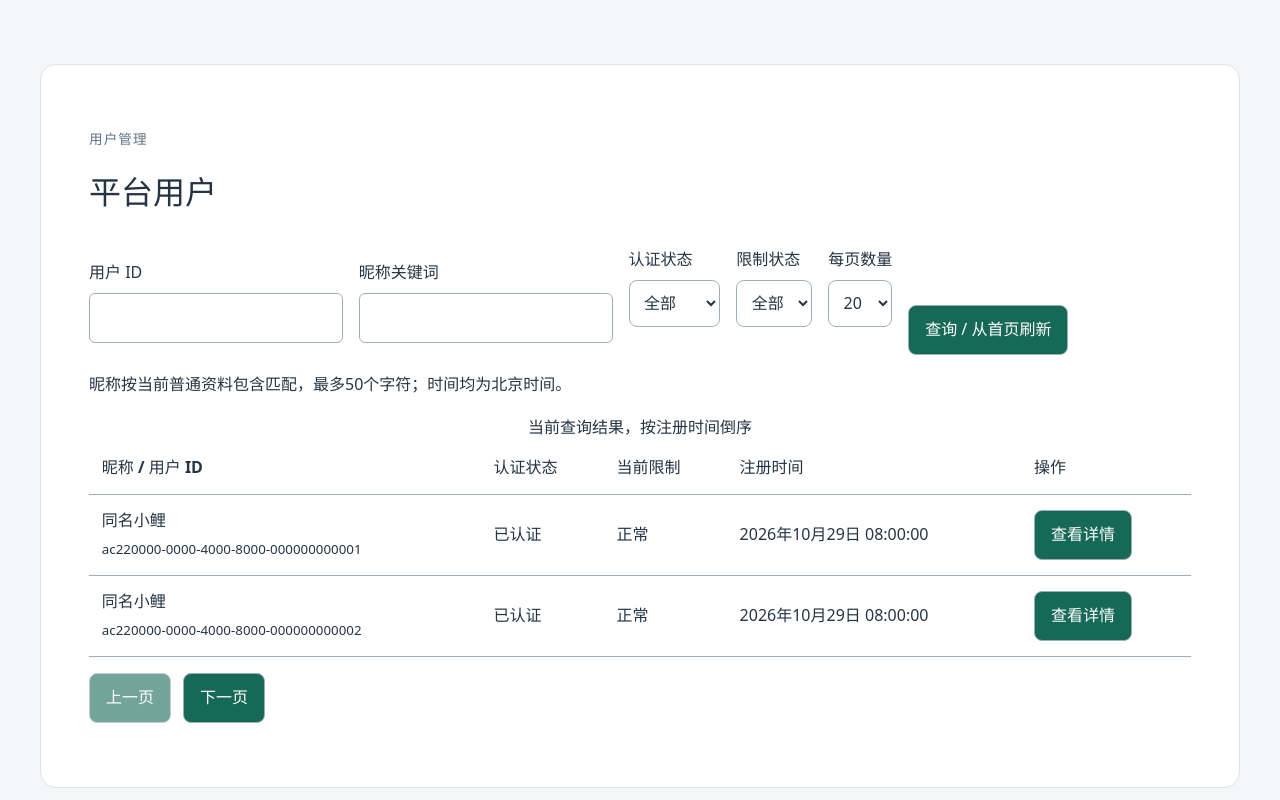
Test: UM-A02–A06 平台用户页面 › 历史独立失败不隐藏详情，空摘要不覆盖封禁状态
This screenshot has width=1280, height=800.
Step 1. Click the button "查看详情" in the row of "ac220000-0000-4000-8000-000000000001" → (1083,535), box [1034,510,1132,560]
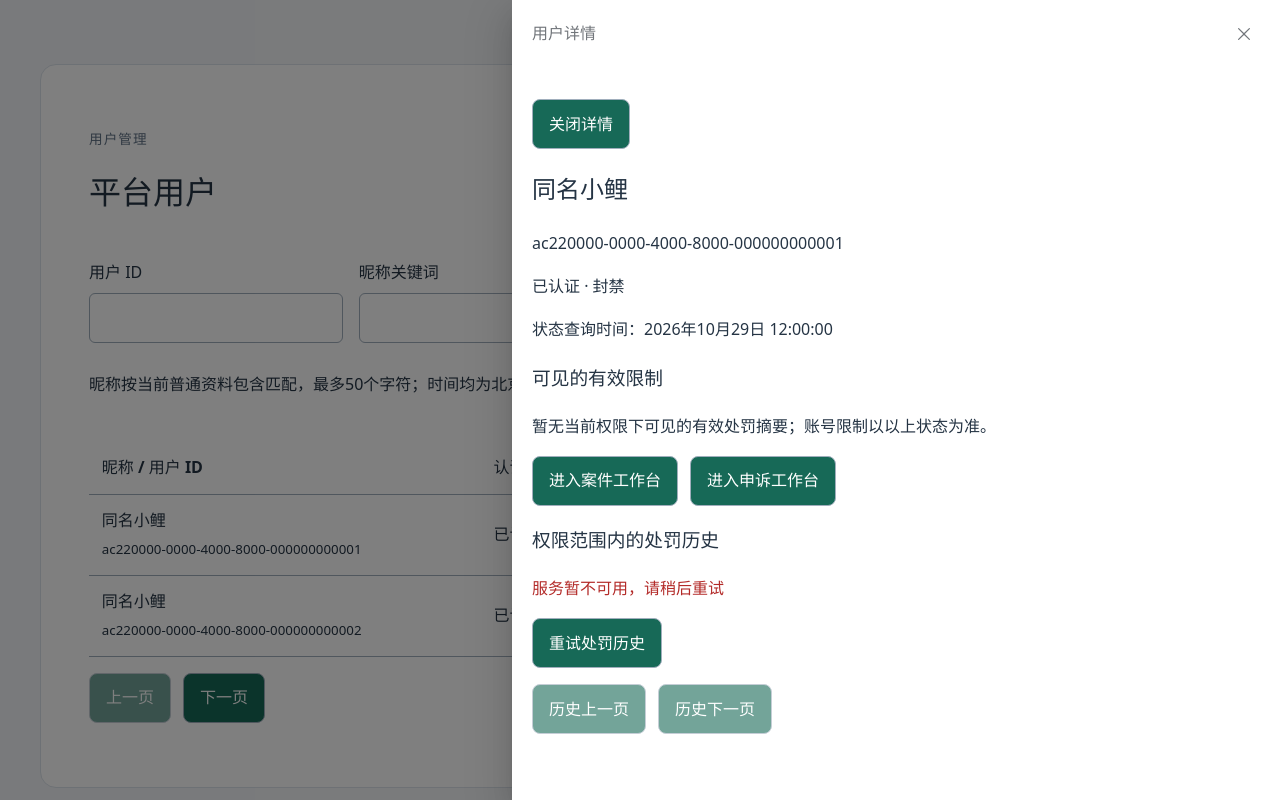
Expected: the dialog named "用户详情" shows "封禁", [532,275,625,297]
Expected: the text "服务暂不可用" is shown, [532,577,724,599]
Step 2. Click the button "重试处罚历史" → (597,643), box [532,618,662,668]
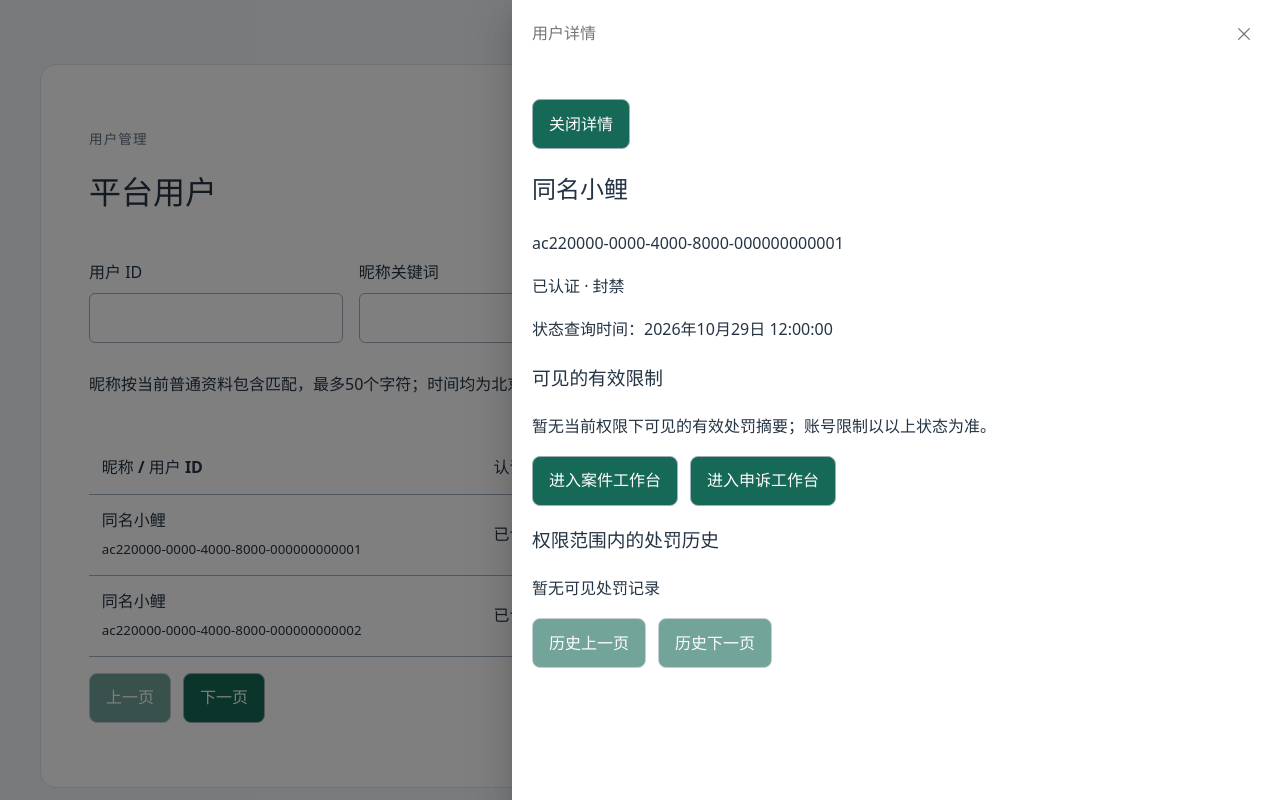
Expected: the text "暂无可见处罚记录" is shown, [532,577,660,599]
